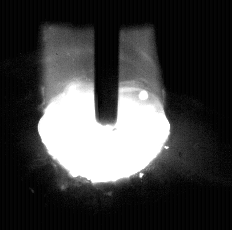arame: (95, 0, 120, 125)
poca: (37, 0, 171, 230)
